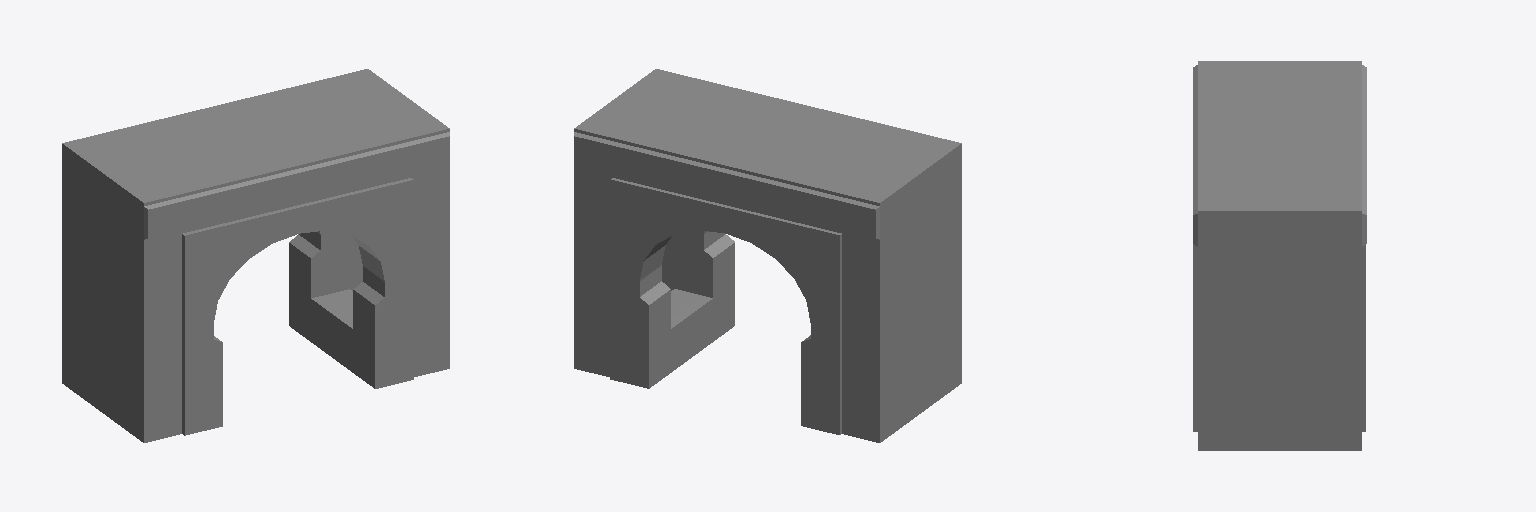
File: Bridge.obj
The picture shows the model from 3 angles: view 1: azimuth 30°, elevation 25°; view 2: azimuth 150°, elevation 25°; view 3: azimuth 270°, elevation 25°; orthographic projection.
Parts seen in each view (by area): view 1: Bridge; view 2: Bridge; view 3: Bridge.
Part boxes in pixels (x1,y1,x2,y2): Bridge: (62,69,449,442); Bridge: (574,69,961,442); Bridge: (1193,61,1366,450).
Size of the model in its own units: 54.67 by 41 by 26.89.